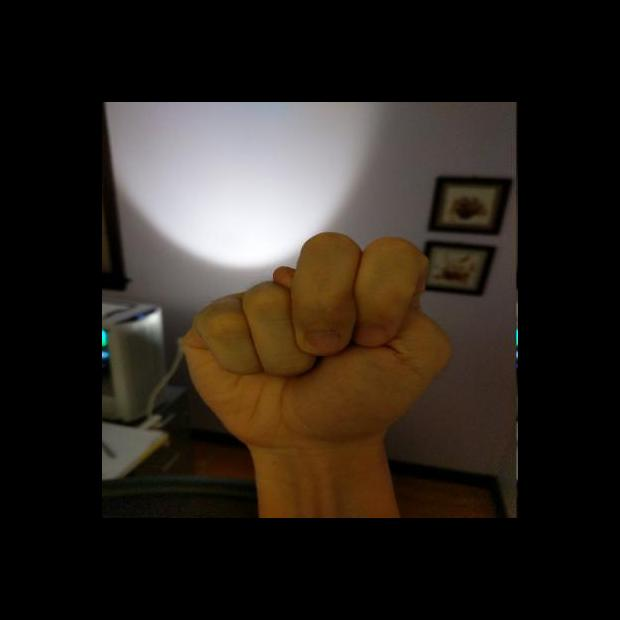M: (177, 229, 459, 454)
